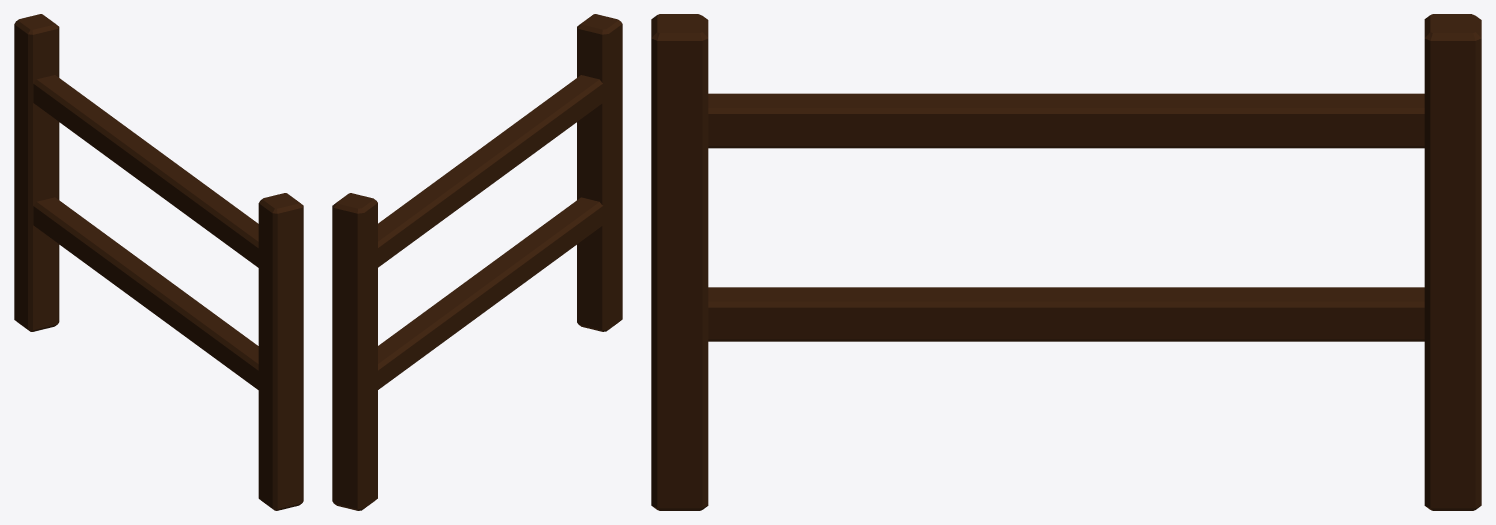
Rendered from fence.glb.
3 views of the same model, side by side, from view 1: azimuth 30°, elevation 25°; view 2: azimuth 150°, elevation 25°; view 3: azimuth 270°, elevation 25° (orthographic). The views are drawn at different scales.
Visible parts, largest first — view 1: Cube, Cube.003, Cube.001, Cube.002; view 2: Cube.003, Cube, Cube.002, Cube.001; view 3: Cube.002, Cube.001, Cube.003, Cube.
Part boxes in pixels (bbox=[...]): Cube: bbox=[258, 193, 303, 510]; Cube.003: bbox=[14, 14, 59, 331]; Cube.001: bbox=[33, 197, 258, 389]; Cube.002: bbox=[33, 75, 258, 267]; Cube.003: bbox=[332, 193, 377, 510]; Cube: bbox=[577, 14, 622, 331]; Cube.002: bbox=[378, 75, 603, 267]; Cube.001: bbox=[378, 197, 603, 389]; Cube.002: bbox=[708, 93, 1424, 148]; Cube.001: bbox=[708, 287, 1424, 341]; Cube.003: bbox=[1424, 14, 1481, 510]; Cube: bbox=[651, 14, 708, 510].
Size of the model in its own units: 0.1184 by 1.1 by 1.72.
